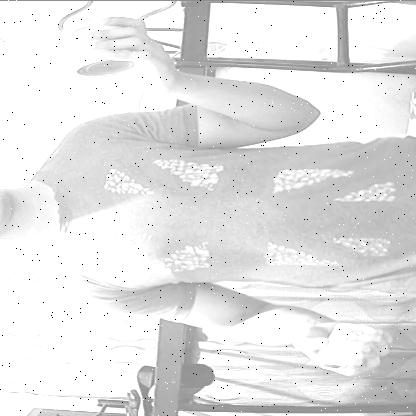Others: (301, 308, 379, 380)
